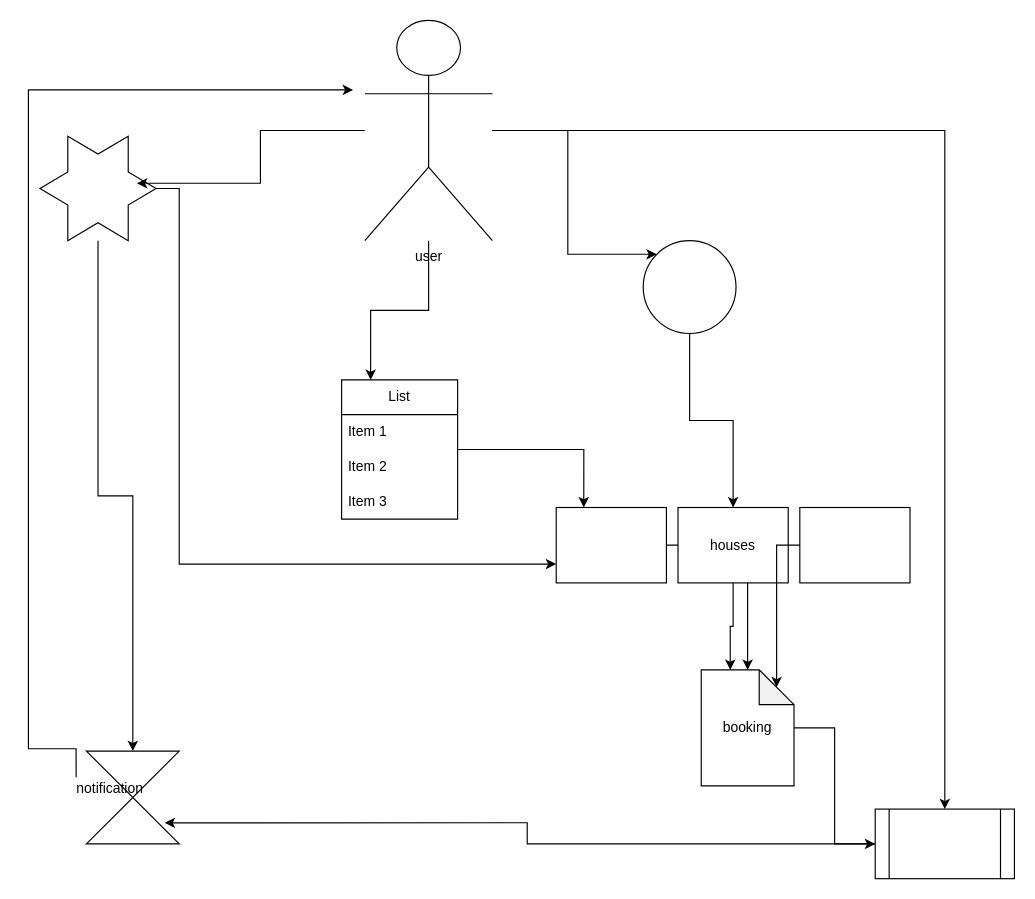
Image size: 1035x899. Some labels were removed from this diagram. Each missing label, with the box of its shape:
payment: (874, 808, 1014, 879)
ratings: (39, 135, 156, 241)
search: (642, 240, 736, 334)
